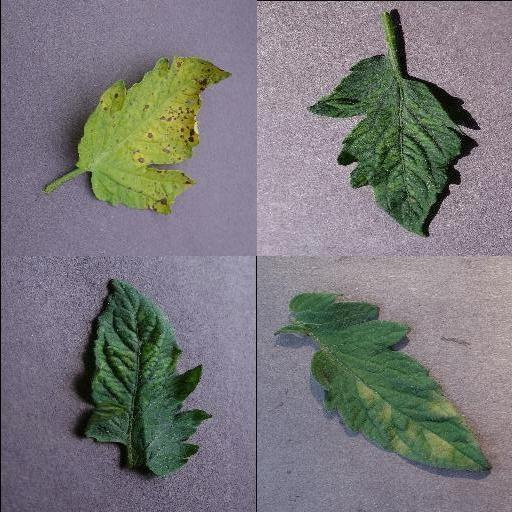Leaf Mold: (287, 292, 491, 472)
Mosaic Virus: (306, 53, 464, 235), (81, 278, 213, 478)
Septoria: (74, 58, 232, 218)
